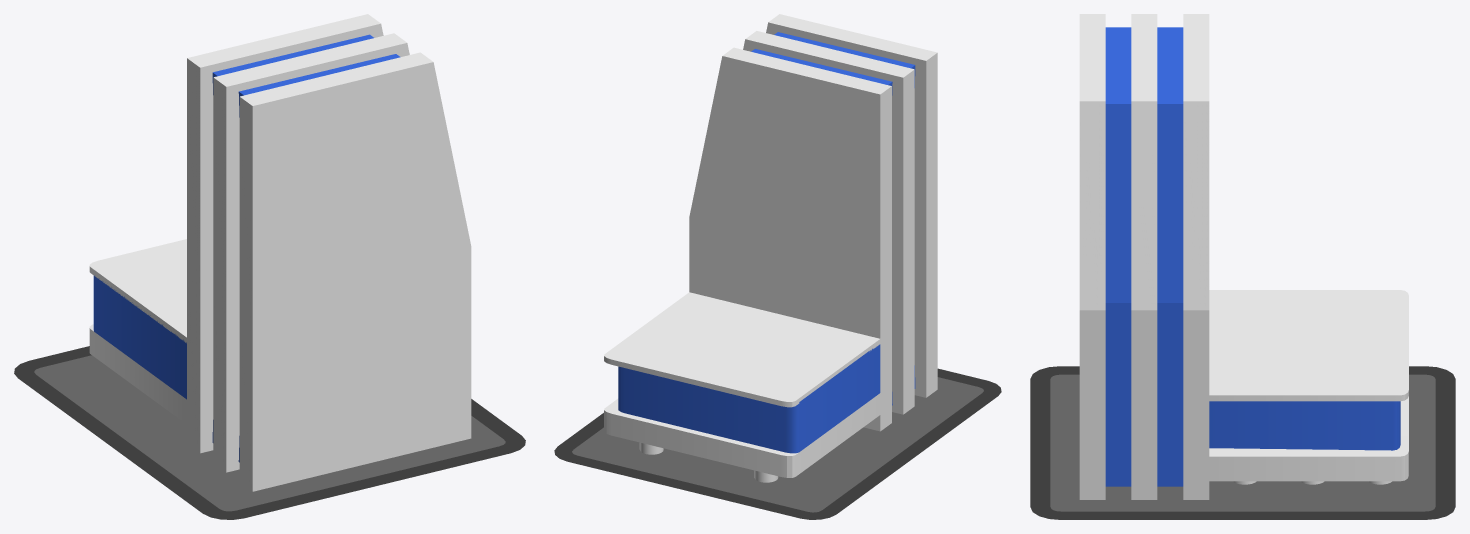
Rendered from building2.glb.
The picture shows the model from 3 angles, left to right: view 1: azimuth 30°, elevation 25°; view 2: azimuth 150°, elevation 25°; view 3: azimuth 270°, elevation 25°; orthographic projection. The views are drawn at different scales.
Parts seen in each view (by area): view 1: Cube.025, Plane.005, Cube.024; view 2: Cube.025, Cube.024, Plane.005; view 3: Cube.025, Cube.024, Plane.005.
Part boxes in pixels (<box>): Cube.025: <box>187,14,471,491</box>; Plane.005: <box>14,346,525,519</box>; Cube.024: <box>89,239,186,424</box>; Cube.025: <box>689,14,937,431</box>; Cube.024: <box>604,292,880,477</box>; Plane.005: <box>554,368,1001,519</box>; Cube.025: <box>1079,14,1209,499</box>; Cube.024: <box>1209,290,1408,481</box>; Plane.005: <box>1030,366,1455,519</box>.
Bounding box in the file's own units: 3.11 × 3.59 × 3.63.
